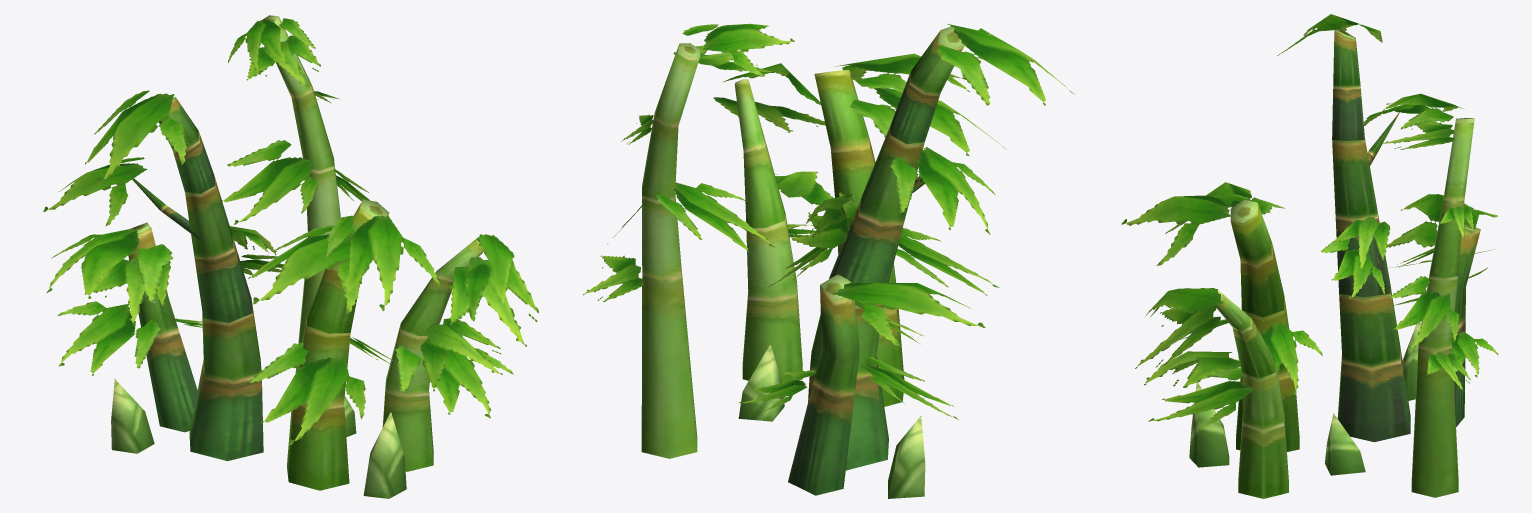
Rendered from loyalismwood_bamboo01.FBX.
3 renders of one model, left to right at view 1: azimuth 30°, elevation 25°; view 2: azimuth 150°, elevation 25°; view 3: azimuth 270°, elevation 25°, orthographic. The views are drawn at different scales.
Visible parts, largest first — view 1: loyalismwood_bamboo01; view 2: loyalismwood_bamboo01; view 3: loyalismwood_bamboo01.
Part boxes in pixels (x1,y1,x2,y2): loyalismwood_bamboo01: (43, 15, 538, 498); loyalismwood_bamboo01: (583, 23, 1074, 498); loyalismwood_bamboo01: (1121, 14, 1498, 498).
Bounding box in the file's own units: 718 × 671 × 674.
